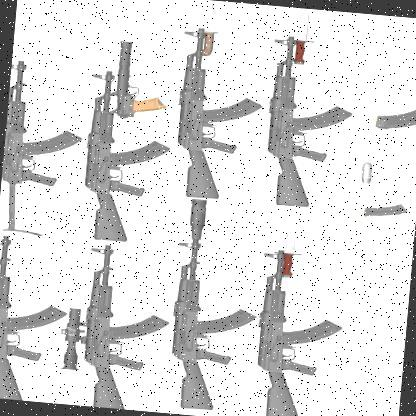rifle: (250, 215, 360, 416), (164, 197, 263, 416), (81, 41, 182, 246), (261, 6, 361, 212), (175, 0, 269, 201), (66, 242, 176, 413), (0, 56, 90, 241), (0, 237, 71, 403)
